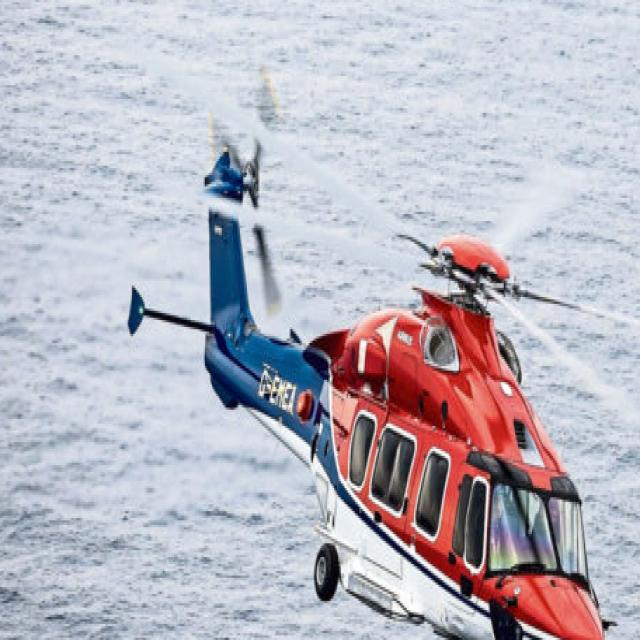helicopter: (118, 61, 619, 640)
